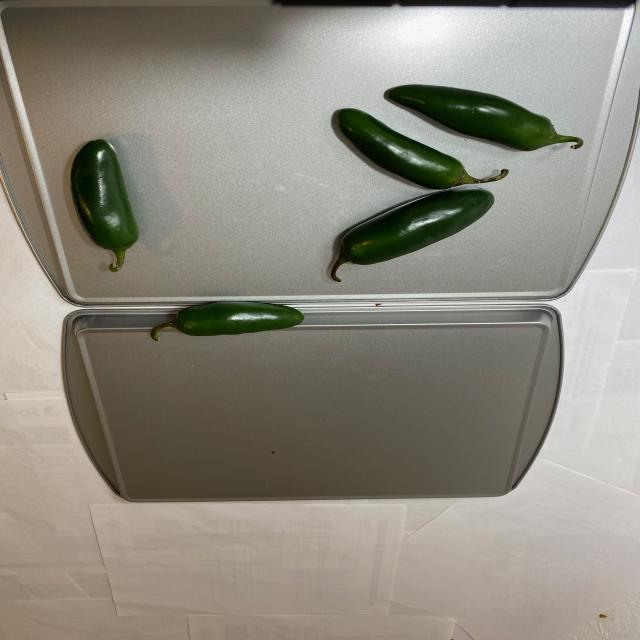chilli: (316, 83, 579, 277), (66, 130, 142, 270), (141, 291, 311, 340)
